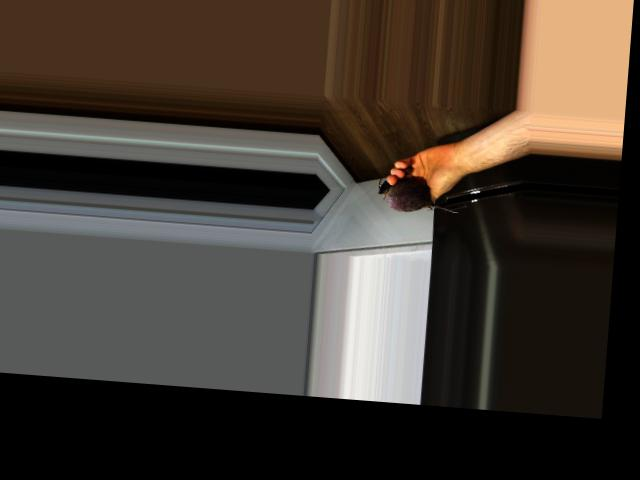beet: (376, 177, 459, 215)
